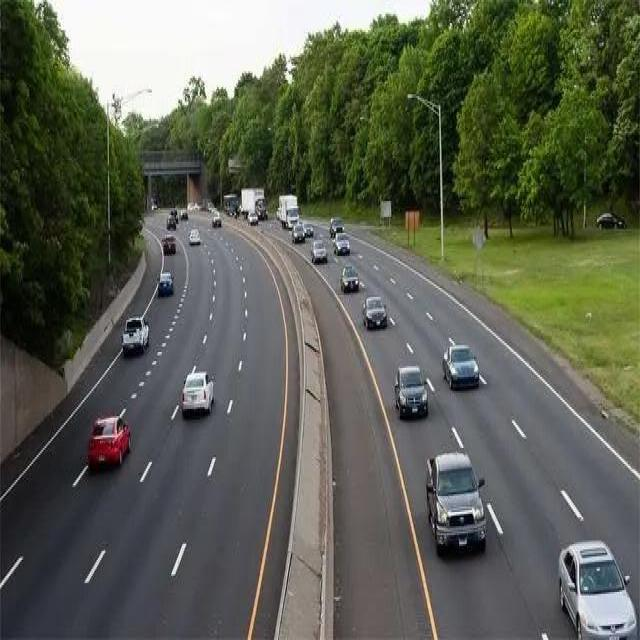point: (136, 170, 205, 249)
